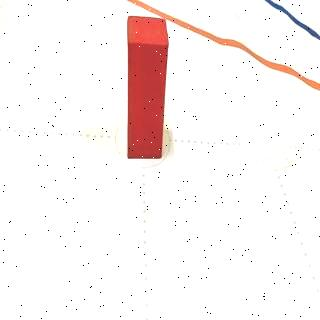redbox: (125, 14, 168, 160)
